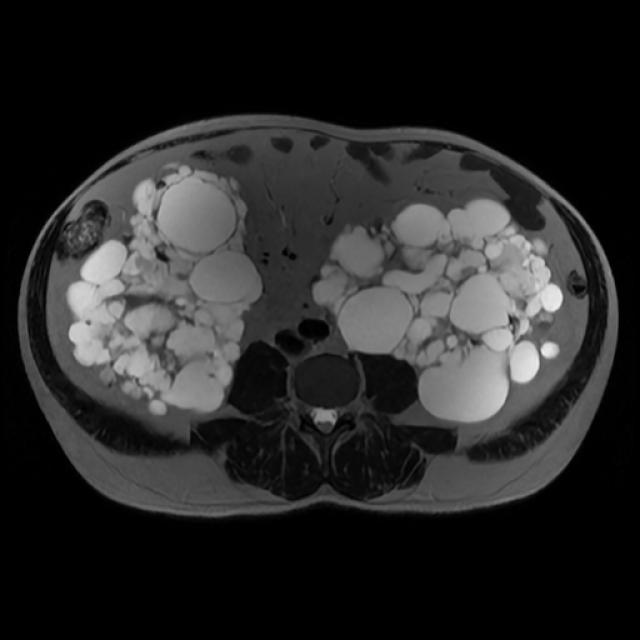sag: (69, 168, 261, 416)
sol: (311, 197, 563, 423)
